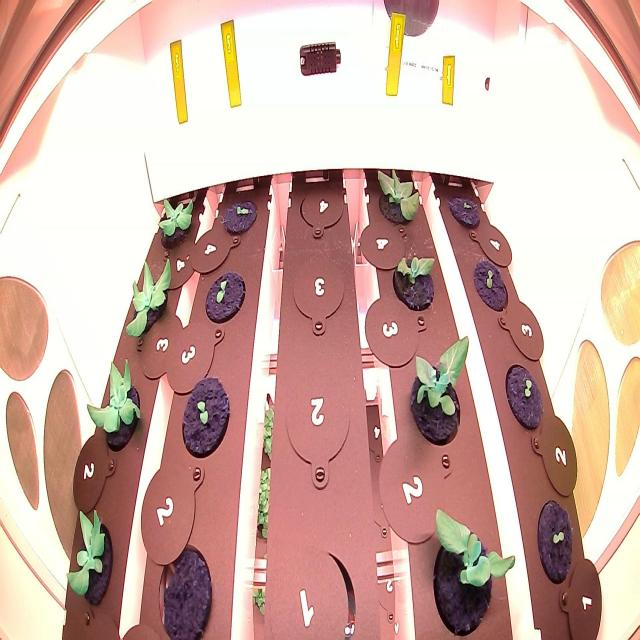empty_pod: (279, 362, 355, 496), (262, 534, 358, 640), (288, 245, 348, 342), (292, 175, 348, 246)
germination: (177, 367, 235, 472), (531, 487, 579, 589), (200, 255, 252, 345), (499, 351, 546, 437), (216, 179, 263, 247), (466, 248, 511, 318), (447, 186, 486, 233)
pod: (156, 529, 222, 640)
young: (428, 490, 521, 640), (402, 325, 479, 454), (58, 492, 124, 618), (83, 344, 153, 460), (114, 246, 180, 347), (371, 145, 431, 236), (388, 235, 440, 323), (154, 174, 198, 254)
